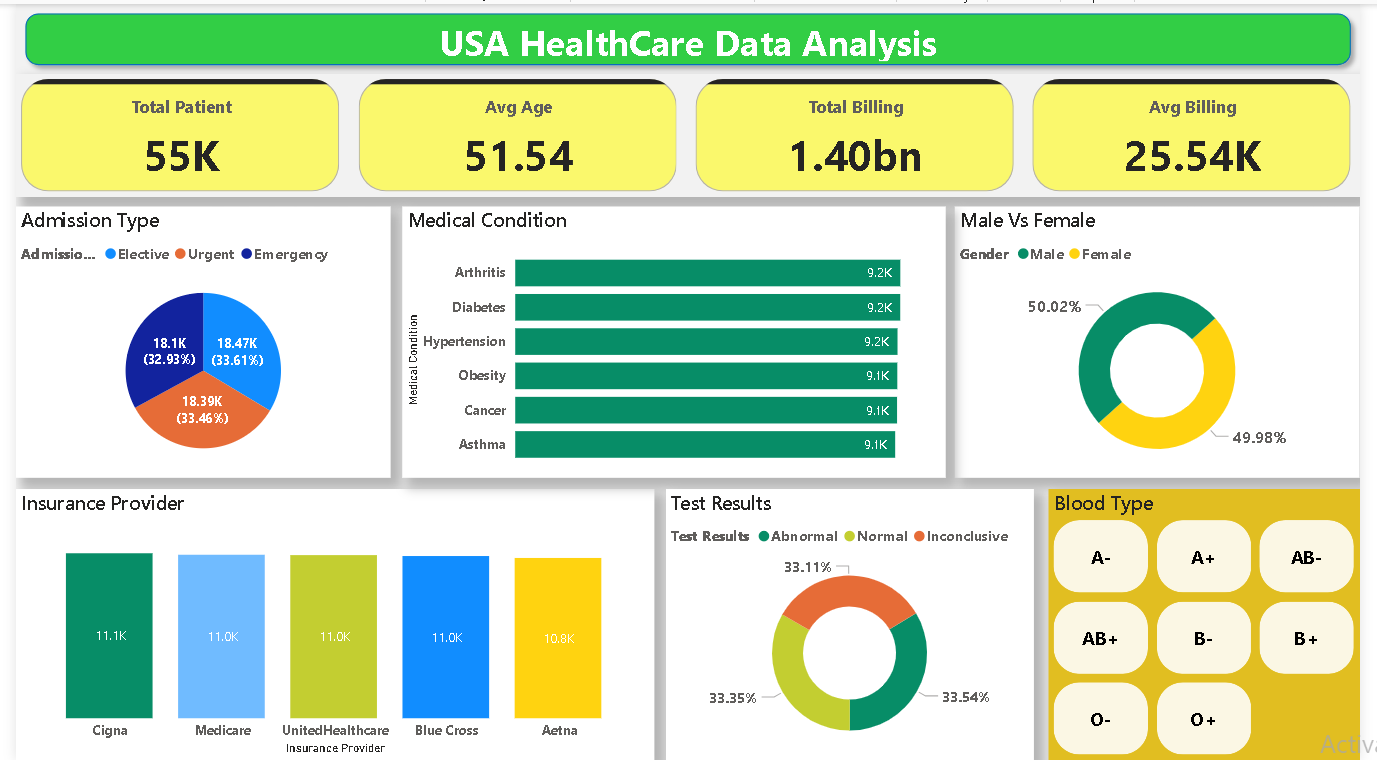

The dashboard page shown, as its layout file describes it:
{"tool":"powerbi","page":{"name":"Page 1","canvas":[1280,720],"ordinal":0},"visuals":[{"type":"shape","box":[0,0,1280.3,67.2],"z":0},{"type":"cardVisual","title":"KPIs","fields":{"Data":["Finalize Data.Total Patient","Finalize Data.Avg Age","Finalize Data.Total Billing","Finalize Data.Avg Billing"]},"box":[0,66.7,1279.8,117.9],"z":1000},{"type":"pieChart","title":"Admission Type","fields":{"Category":["Finalize Data.Admission Type"],"Y":["CountNonNull(Finalize Data.Admission Type)"]},"box":[0,192.9,357.1,258.3],"z":3000},{"type":"donutChart","title":"Male Vs Female","fields":{"Y":["CountNonNull(Finalize Data.Gender)"],"Category":["Finalize Data.Gender"]},"box":[894.1,192.9,385.7,258.3],"z":3001},{"type":"columnChart","title":"Insurance Provider","fields":{"Category":["Finalize Data.Insurance Provider"],"Y":["CountNonNull(Finalize Data.Name)"]},"box":[0,461.9,608.3,258.3],"z":3002},{"type":"barChart","title":"Medical Condition","fields":{"Category":["Finalize Data.Medical Condition"],"Y":["CountNonNull(Finalize Data.Name)"]},"box":[367.9,192.9,517.9,258.3],"z":3003},{"type":"donutChart","title":"Test Results","fields":{"Y":["CountNonNull(Finalize Data.Test Results)"],"Category":["Finalize Data.Test Results"]},"box":[619.1,461.9,350,258.3],"z":3004},{"type":"advancedSlicerVisual","fields":{"Values":["Finalize Data.Blood Type"]},"box":[983.3,461.9,296.4,258.3],"z":3005}]}

Visuals, with their boxes in screenshot pixels (x1, y1, x2, y2), scaled from the page's 1280x720 canvas onto the 1377x760 screenshot:
shape: {"x1": 0, "y1": 0, "x2": 1376, "y2": 71}
"KPIs" cardVisual: {"x1": 0, "y1": 70, "x2": 1376, "y2": 195}
"Admission Type" pieChart: {"x1": 0, "y1": 204, "x2": 384, "y2": 476}
"Male Vs Female" donutChart: {"x1": 962, "y1": 204, "x2": 1376, "y2": 476}
"Insurance Provider" columnChart: {"x1": 0, "y1": 488, "x2": 654, "y2": 759}
"Medical Condition" barChart: {"x1": 396, "y1": 204, "x2": 953, "y2": 476}
"Test Results" donutChart: {"x1": 666, "y1": 488, "x2": 1043, "y2": 759}
advancedSlicerVisual - Finalize Data.Blood Type: {"x1": 1058, "y1": 488, "x2": 1376, "y2": 759}
